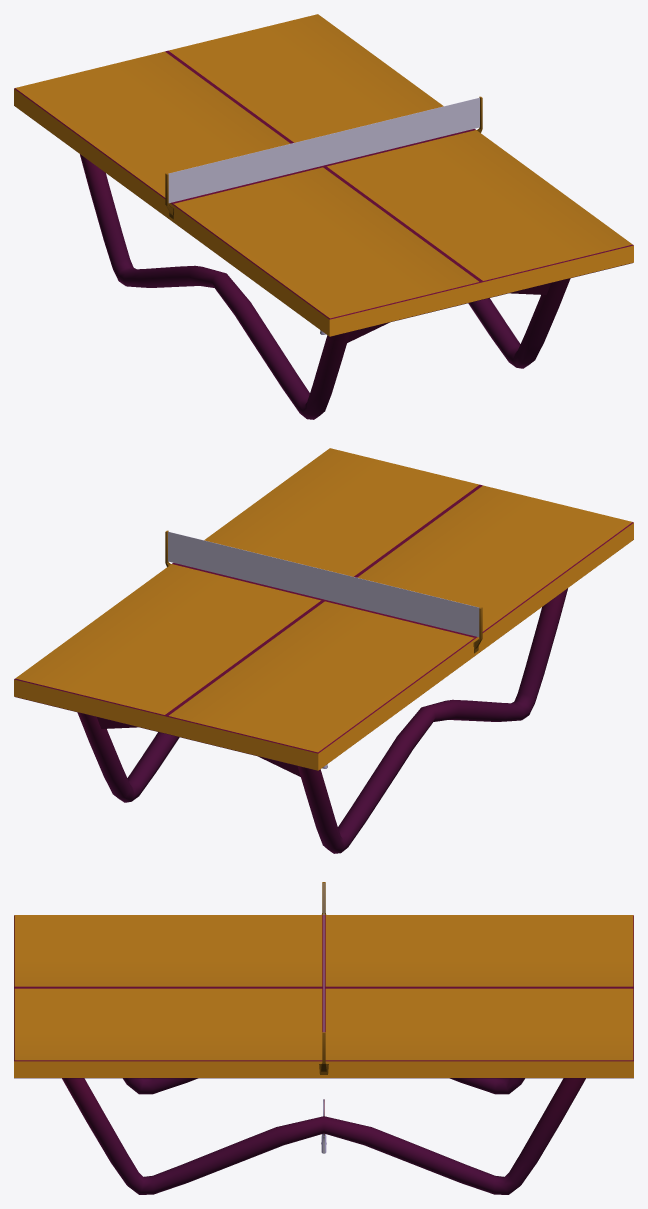
File: PingPongSet_Var2.fbx
3 renders of one model, top to bottom at view 1: azimuth 30°, elevation 25°; view 2: azimuth 150°, elevation 25°; view 3: azimuth 270°, elevation 25°, orthographic.
Parts seen in each view (by area): view 1: PingPongTable_Var2; view 2: PingPongTable_Var2; view 3: PingPongTable_Var2.
Part boxes in pixels (<box>): PingPongTable_Var2: <box>14,14,633,419</box>; PingPongTable_Var2: <box>14,448,633,853</box>; PingPongTable_Var2: <box>14,882,633,1194</box>.
Size of the model in its own units: 158 by 94.98 by 274.
